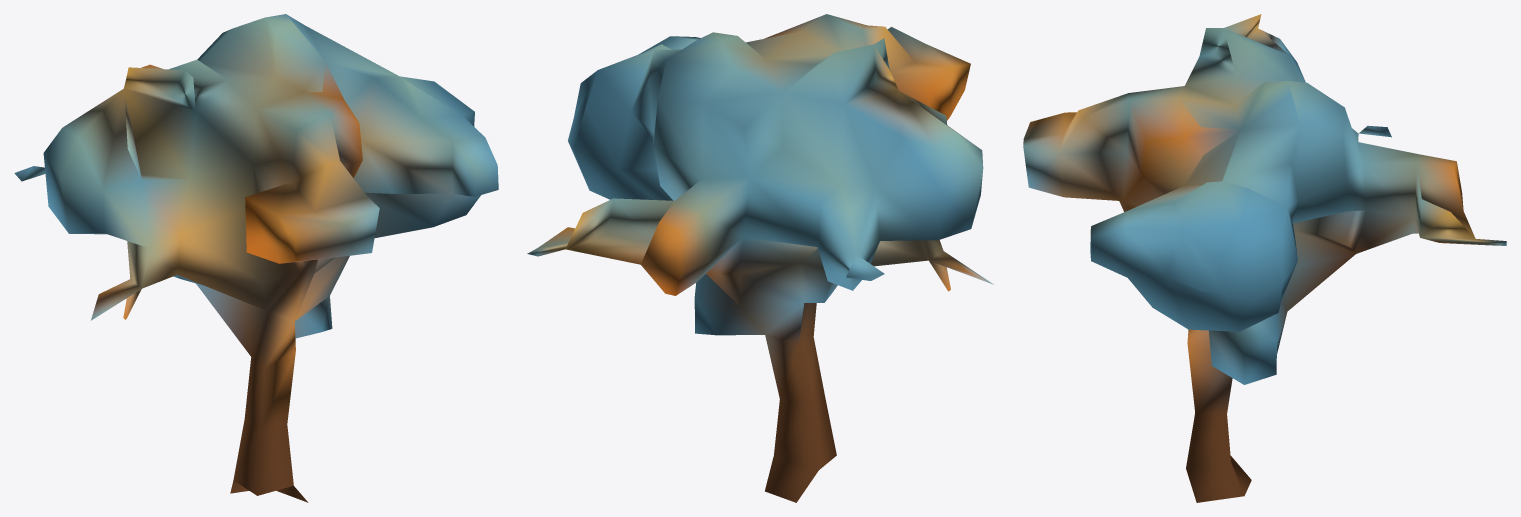
File: canopy-tree-205-lod3.obj
3 views of the same model, side by side, from view 1: azimuth 30°, elevation 25°; view 2: azimuth 150°, elevation 25°; view 3: azimuth 270°, elevation 25° (orthographic). The views are drawn at different scales.
Visible parts, largest first — view 1: simplified; view 2: simplified; view 3: simplified.
Part boxes in pixels (x1,y1,x2,y2): simplified: (14,14,498,502); simplified: (527,14,993,502); simplified: (1023,14,1506,502).
Size of the model in its own units: 344 by 364 by 376.
